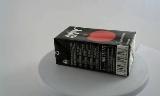appy: (49, 25, 128, 77)
